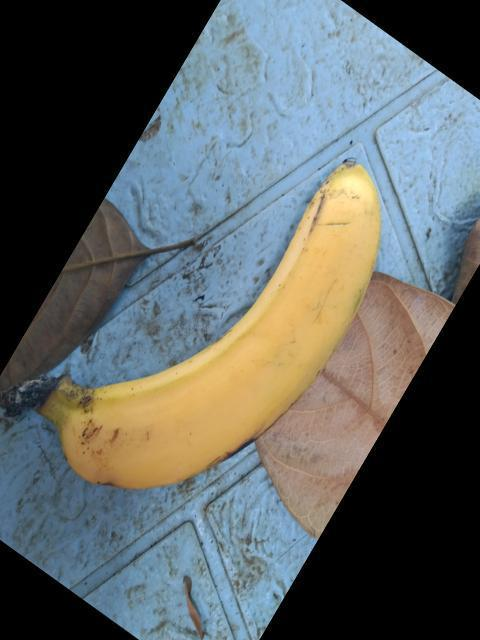freshripe: (62, 148, 374, 498)
